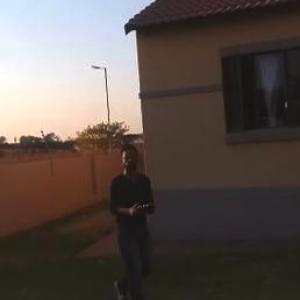follow: (102, 137, 174, 299)
